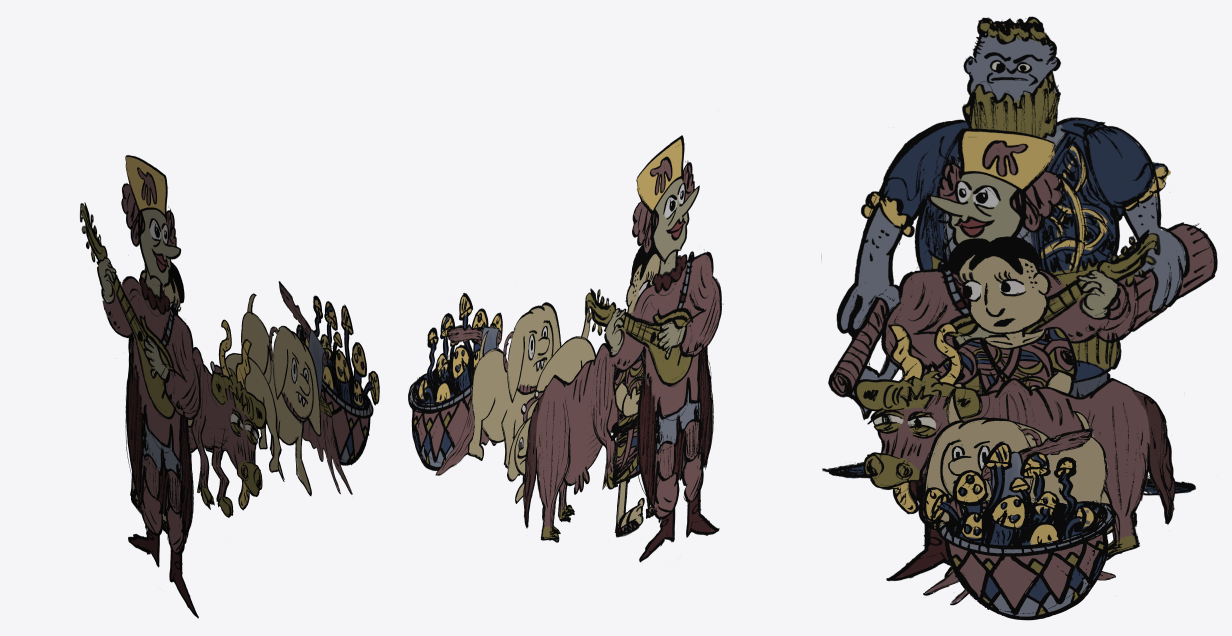
The model's file is char.glb.
The picture shows the model from 3 angles, left to right: view 1: azimuth 30°, elevation 25°; view 2: azimuth 150°, elevation 25°; view 3: azimuth 270°, elevation 25°; orthographic projection. The views are drawn at different scales.
Parts seen in each view (by area): view 1: boy.001, boy.003, DOGone, DOGone.002, DOGone.001, DOGTWO, boy; view 2: boy.001, boy.003, DOGone, DOGone.002, boy, DOGTWO, DOGone.001; view 3: boy.002, boy.001, boy.003, DOGone.002, boy, DOGone, DOGone.001, DOGTWO.
Part boxes in pixels (x1,y1,x2,y2): boy.001: (80, 155, 200, 618); boy.003: (128, 319, 266, 517); DOGone: (241, 293, 321, 496); DOGone.002: (296, 295, 379, 465); DOGone.001: (278, 281, 352, 494); DOGTWO: (206, 345, 281, 472); boy: (128, 262, 194, 543); boy.001: (585, 135, 723, 562); boy.003: (523, 277, 631, 542); DOGone: (467, 302, 561, 475); DOGone.002: (408, 293, 502, 470); boy: (611, 245, 659, 537); DOGTWO: (507, 301, 595, 503); DOGone.001: (435, 324, 501, 475); boy.002: (821, 16, 1217, 495); boy.001: (878, 128, 1160, 581); boy.003: (854, 323, 1175, 560); DOGone.002: (923, 441, 1115, 620); boy: (927, 236, 1077, 394); DOGone: (923, 410, 1115, 577); DOGone.001: (923, 428, 1115, 605); DOGTWO: (923, 388, 1115, 523).
Size of the model in its own units: 2.49 by 4.85 by 3.2.
8 materials, 8 textured.
